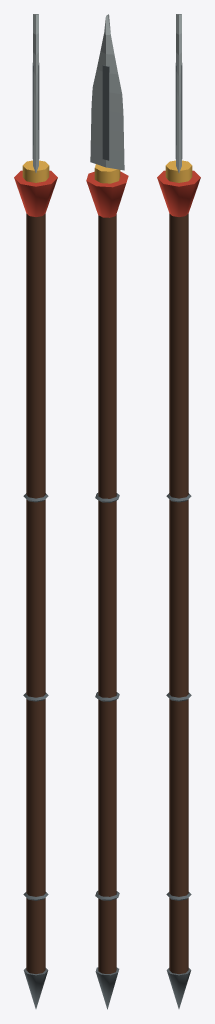
File: spear.glb
The picture shows the model from 3 angles, left to right: view 1: azimuth 90°, elevation 25°; view 2: azimuth 150°, elevation 25°; view 3: azimuth 270°, elevation 25°; orthographic projection.
Parts seen in each view (by area): view 1: Sword; view 2: Sword; view 3: Sword.
Part boxes in pixels (x1,y1,x2,y2): Sword: (14, 14, 57, 1008); Sword: (86, 14, 128, 1009); Sword: (157, 14, 200, 1008).
Size of the model in its own units: 0.1 by 2.5 by 0.1.
